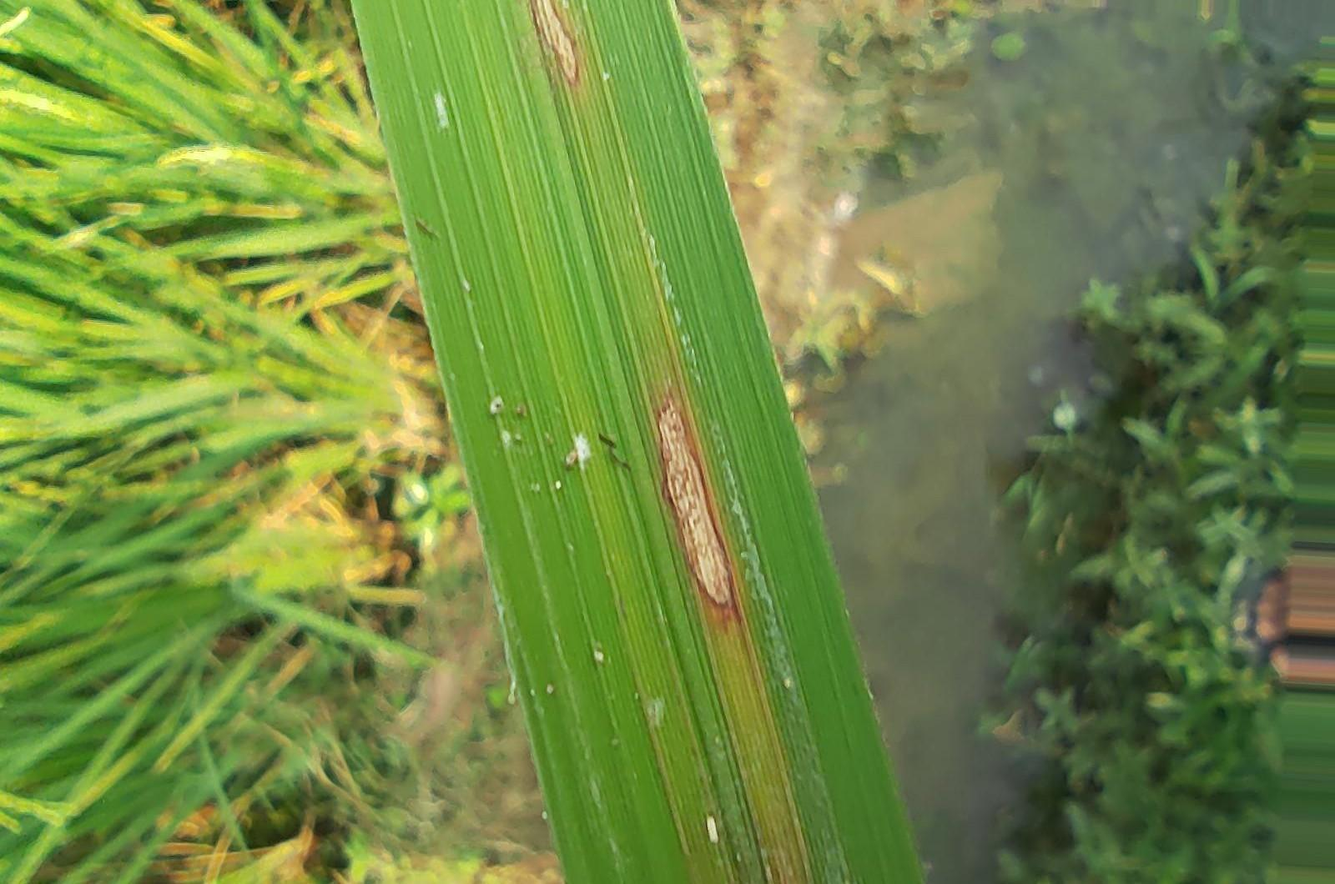LEAF: (354, 0, 920, 883)
LEAF BLAST: (658, 388, 747, 637), (527, 0, 580, 85)
